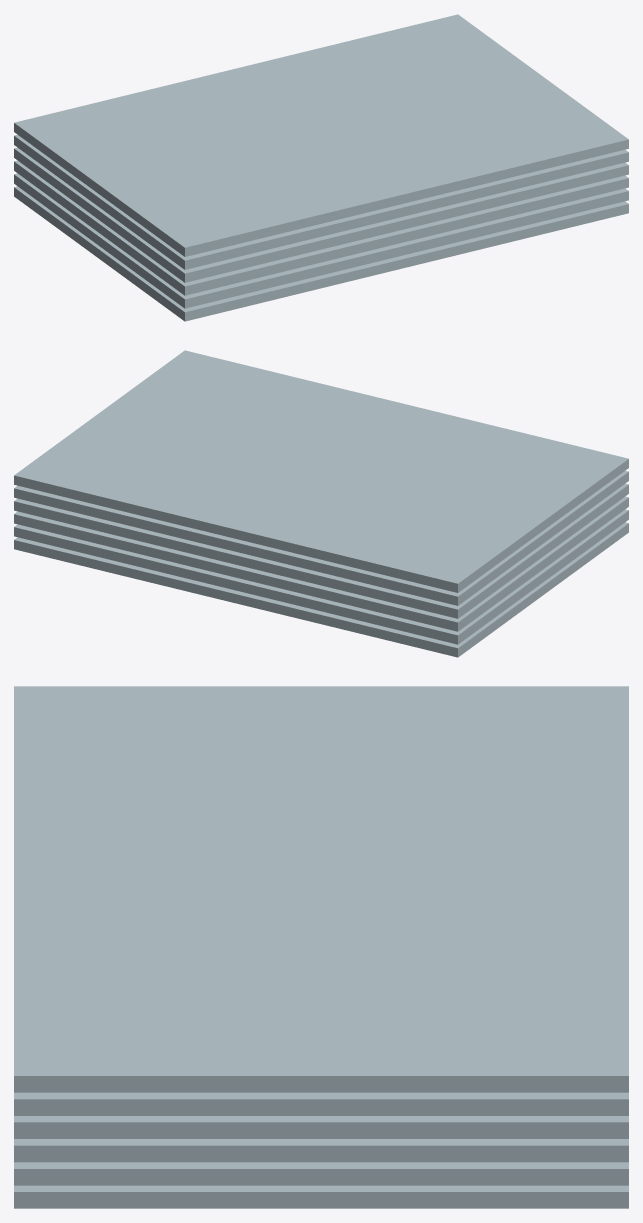
File: stacked-metal-sheet.glb
3 views of the same model, one above another, from view 1: azimuth 30°, elevation 25°; view 2: azimuth 150°, elevation 25°; view 3: azimuth 270°, elevation 25° (orthographic). The views are drawn at different scales.
Parts seen in each view (by area): view 1: steel; view 2: steel; view 3: steel.
Part boxes in pixels (box(x1,y1,x2,y2)): steel: box(14, 14, 628, 321); steel: box(14, 350, 628, 657); steel: box(14, 686, 628, 1208).
Size of the model in its own units: 0.9 by 0.1429 by 0.6.
